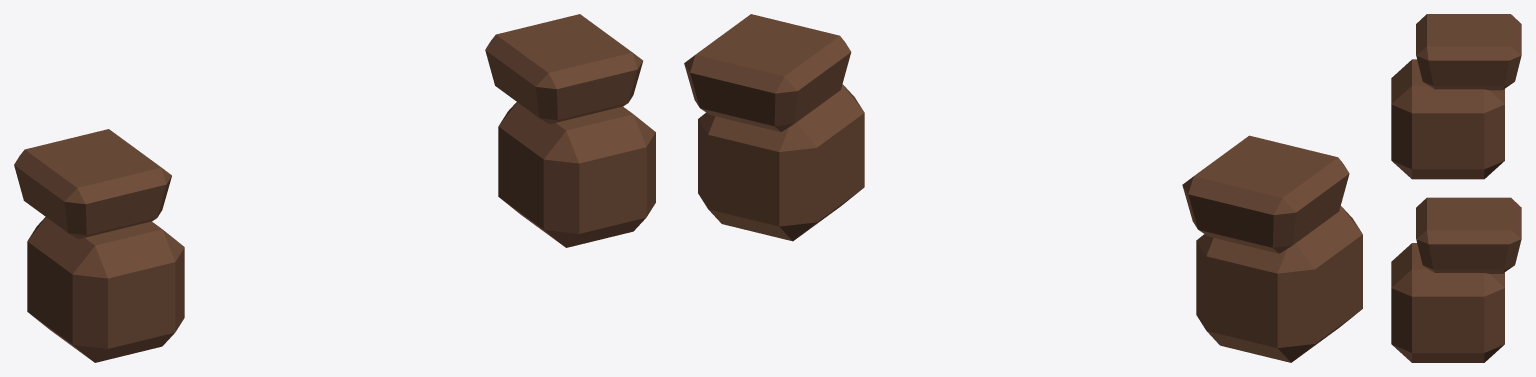
File: LeatherGloves.fbx
The picture shows the model from 3 angles, left to right: view 1: azimuth 30°, elevation 25°; view 2: azimuth 150°, elevation 25°; view 3: azimuth 270°, elevation 25°; orthographic projection. The views are drawn at different scales.
Visible parts, largest first — view 1: LeatherGloves__arm_R, LeatherGloves__arm_L; view 2: LeatherGloves__arm_R, LeatherGloves__arm_L; view 3: LeatherGloves__arm_L, LeatherGloves__arm_R.
Part boxes in pixels (box(x1,y1,x2,y2)): LeatherGloves__arm_R: box(14, 129, 184, 362); LeatherGloves__arm_L: box(485, 14, 655, 247); LeatherGloves__arm_R: box(1182, 135, 1362, 362); LeatherGloves__arm_L: box(684, 14, 864, 241); LeatherGloves__arm_L: box(1391, 197, 1521, 362); LeatherGloves__arm_R: box(1391, 14, 1521, 179).
Bounding box in the file's own units: 1.04 × 0.29 × 0.252.
